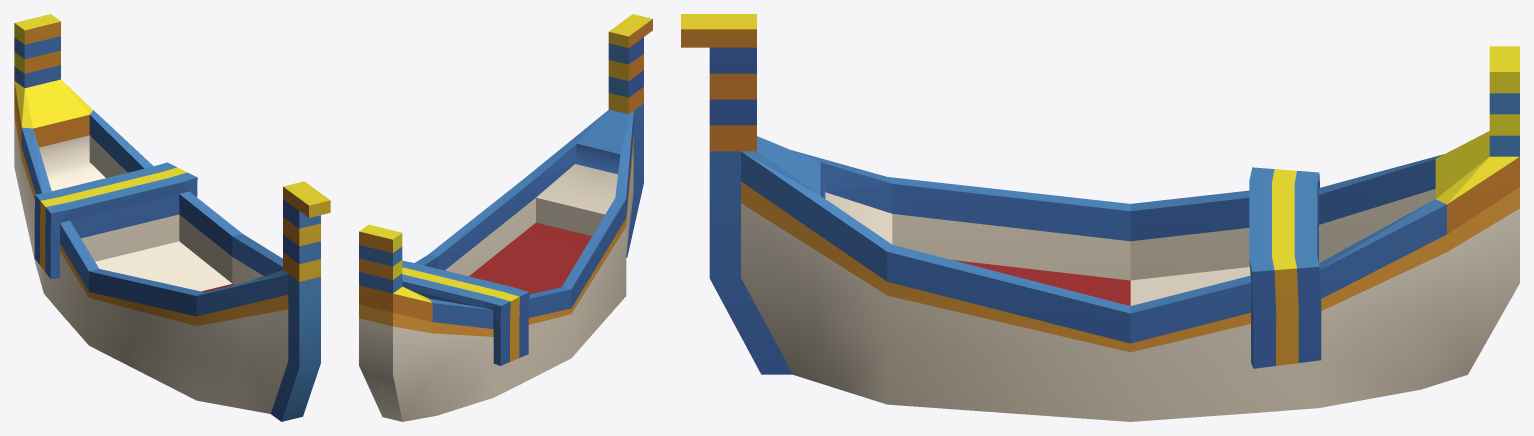
Rendered from Scene_3_Lv3_RiverBoat_2.FBX.
3 views of the same model, side by side, from view 1: azimuth 30°, elevation 25°; view 2: azimuth 150°, elevation 25°; view 3: azimuth 270°, elevation 25° (orthographic). The views are drawn at different scales.
Parts seen in each view (by area): view 1: Scene_3_Lv3_RiverBoat_2; view 2: Scene_3_Lv3_RiverBoat_2; view 3: Scene_3_Lv3_RiverBoat_2.
Part boxes in pixels (box(x1,y1,x2,y2)): Scene_3_Lv3_RiverBoat_2: box(14, 14, 330, 421); Scene_3_Lv3_RiverBoat_2: box(359, 14, 652, 421); Scene_3_Lv3_RiverBoat_2: box(681, 14, 1519, 421).
Size of the model in its own units: 180 by 264 by 582.
